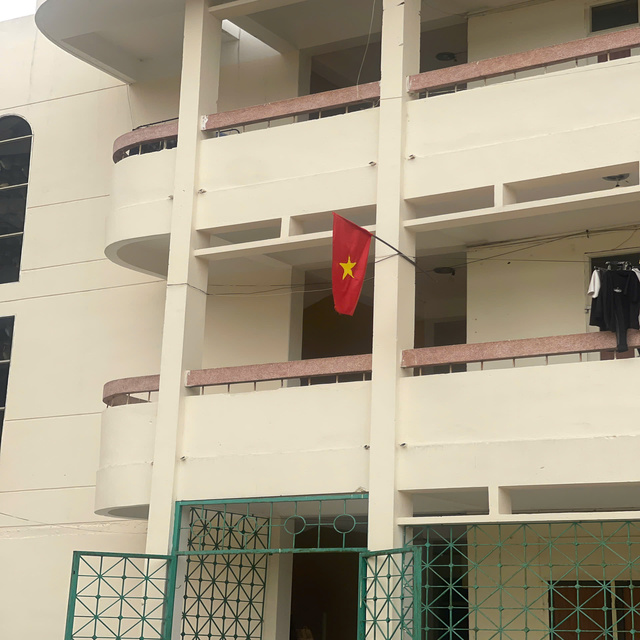laco: (320, 210, 383, 338)
